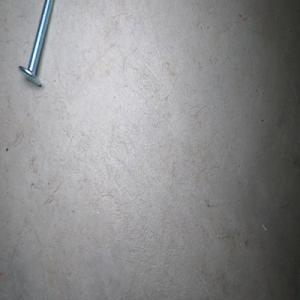Bolt: (17, 0, 55, 86)
